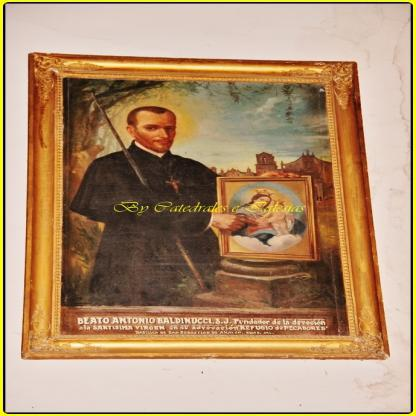Picture-frame: (27, 54, 389, 363)
